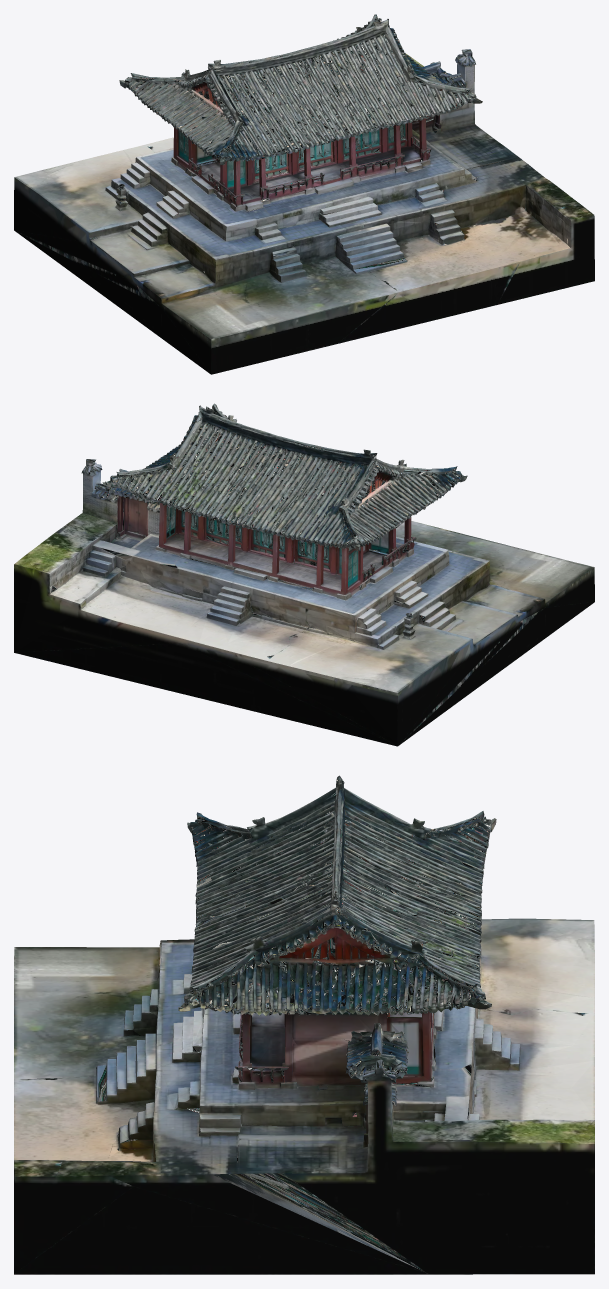
Rendered from hall.glb.
3 views of the same model, one above another, from view 1: azimuth 30°, elevation 25°; view 2: azimuth 150°, elevation 25°; view 3: azimuth 270°, elevation 25° (orthographic). The views are drawn at different scales.
Parts seen in each view (by area): view 1: obj0; view 2: obj0; view 3: obj0.
Boxes of the visible parts, box(x1,y1,x2,y2) form: obj0: box(14, 14, 594, 374); obj0: box(14, 403, 594, 746); obj0: box(14, 775, 594, 1274).
Size of the model in its own units: 21.56 by 11.15 by 19.18.
2 materials, 2 textured.
